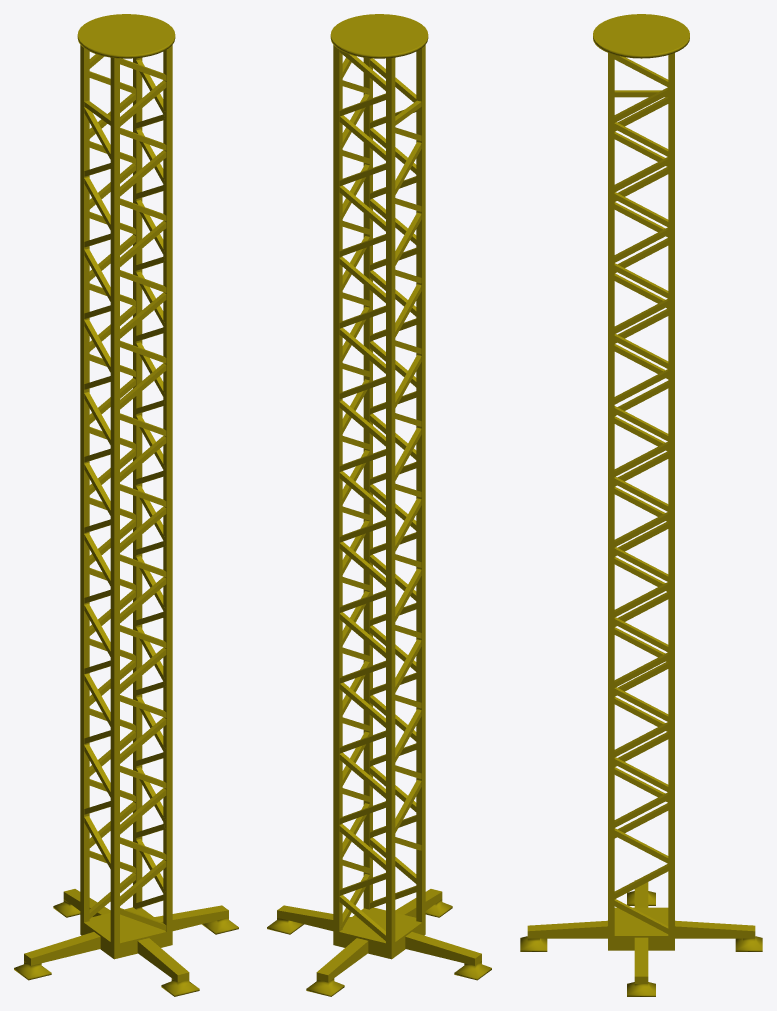
Rendered from unten2opt.obj.
The picture shows the model from 3 angles, left to right: view 1: azimuth 30°, elevation 25°; view 2: azimuth 150°, elevation 25°; view 3: azimuth 270°, elevation 25°; orthographic projection.
Visible parts, largest first — view 1: grundbau_ID7.001; view 2: grundbau_ID7.001; view 3: grundbau_ID7.001.
Boxes of the visible parts, x1,y1,x2,y2 form: grundbau_ID7.001: (14, 14, 238, 996); grundbau_ID7.001: (267, 14, 491, 996); grundbau_ID7.001: (520, 14, 762, 996).
Size of the model in its own units: 0.1804 by 0.7493 by 0.1804.
